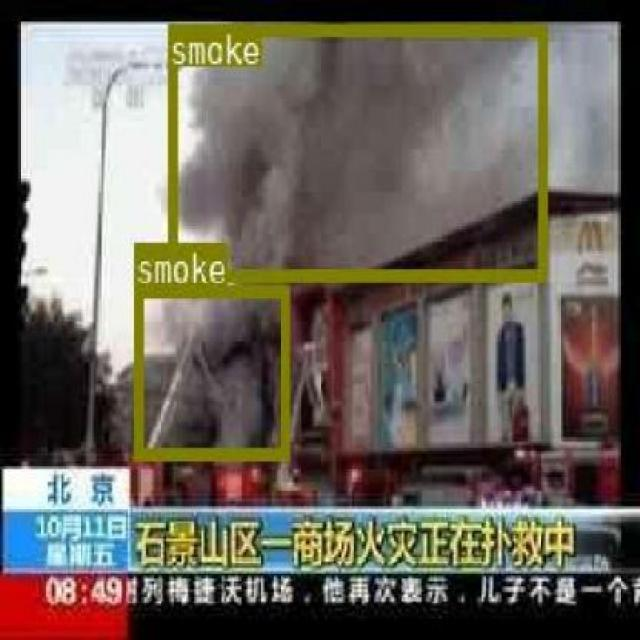Smoke: (167, 21, 546, 280), (132, 284, 288, 458)
